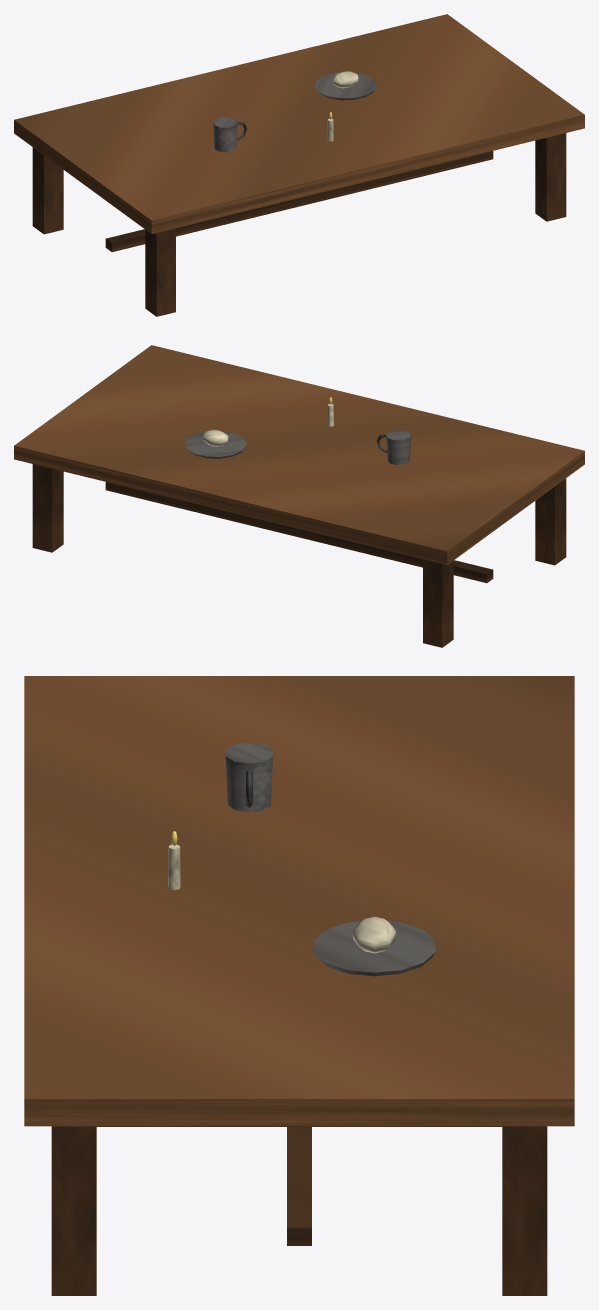
The model's file is table.obj.
3 views of the same model, one above another, from view 1: azimuth 30°, elevation 25°; view 2: azimuth 150°, elevation 25°; view 3: azimuth 270°, elevation 25° (orthographic). The views are drawn at different scales.
Bounding box in the file's own units: 20 × 5.85 × 11.
1 material, 1 textured.
